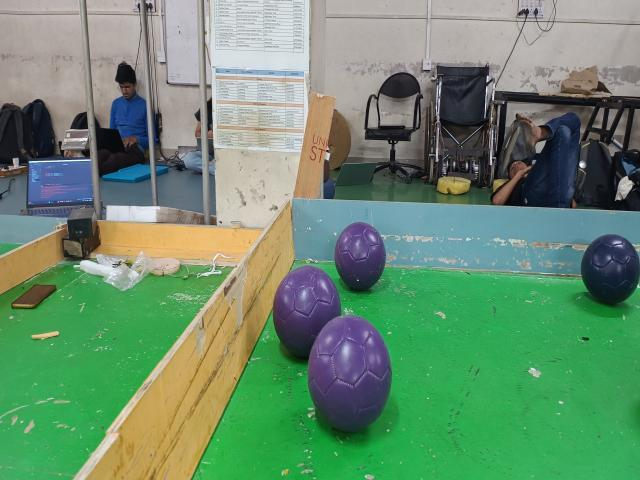jambhalya: (308, 315, 391, 432), (272, 265, 341, 358), (334, 222, 386, 290)
kaalyya: (581, 235, 640, 305)
